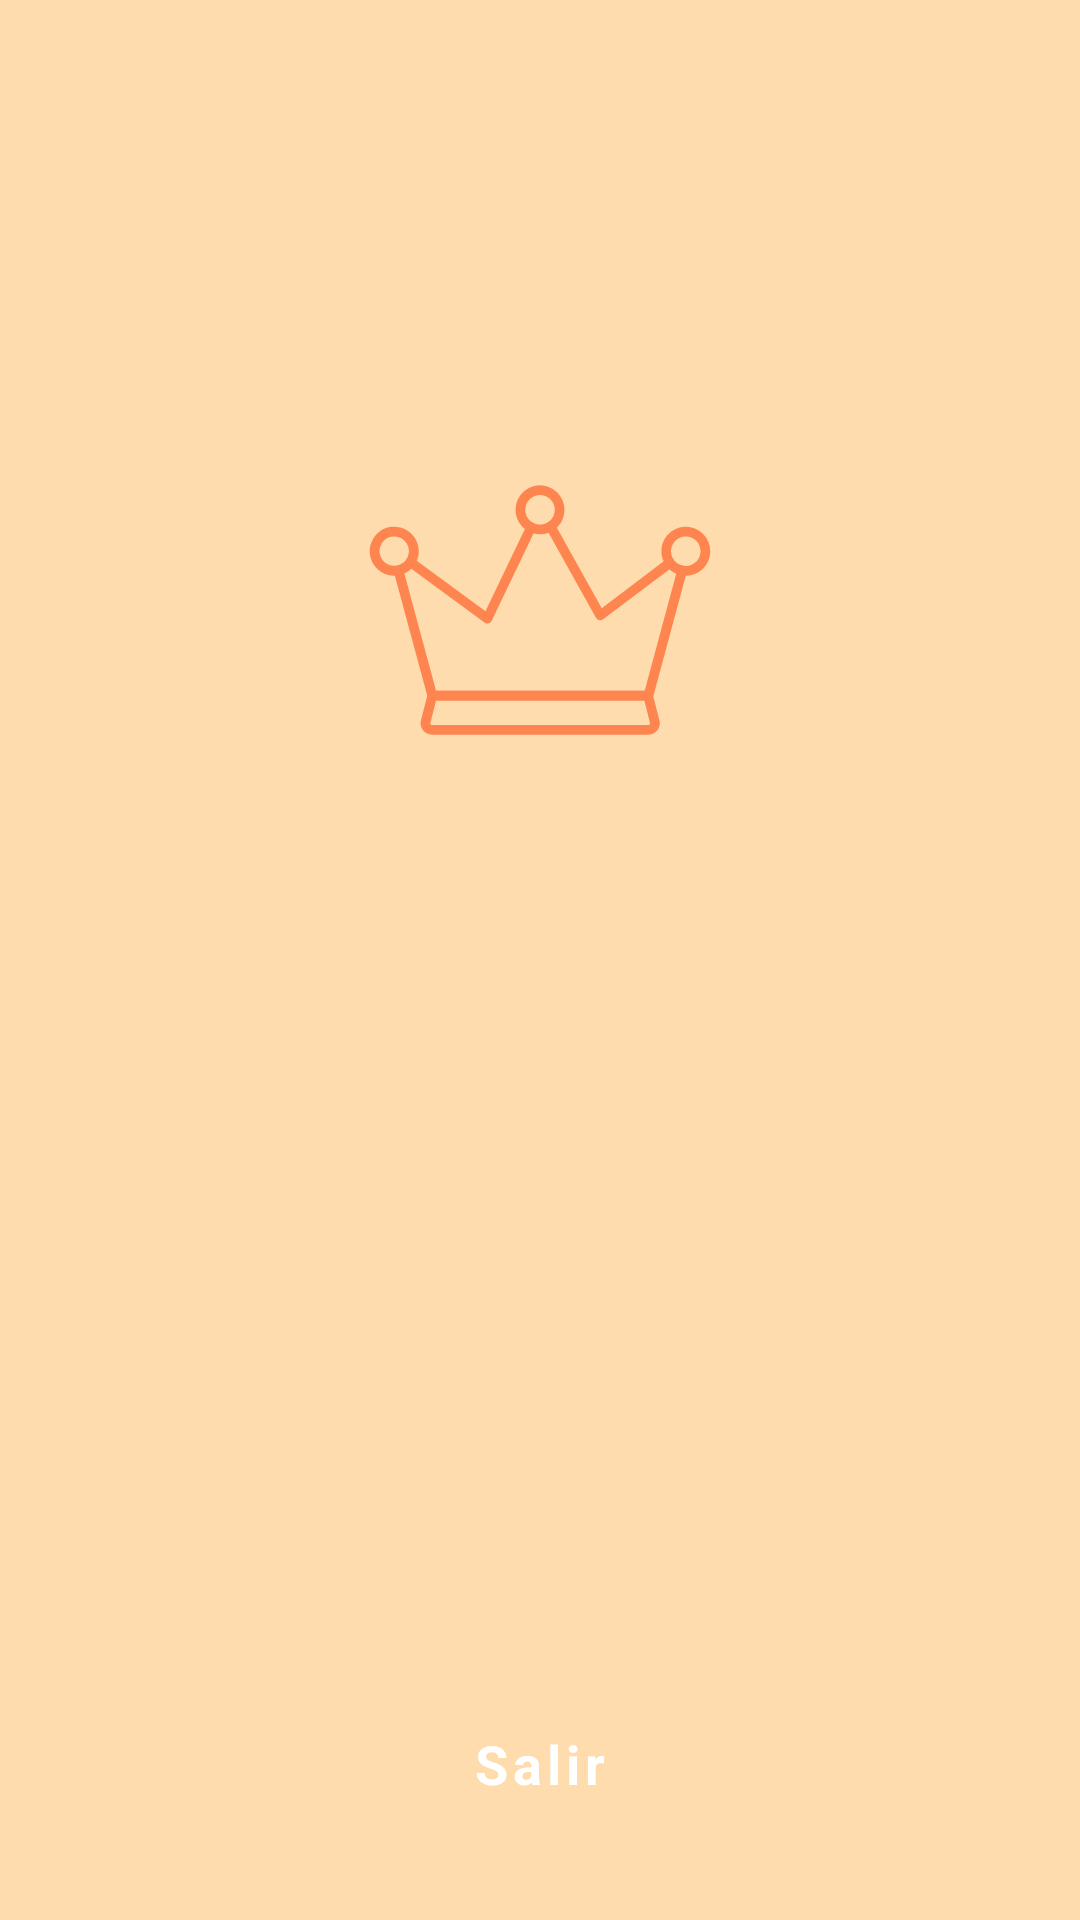

Screen size 1080px×1920px. Icon name, then its center in pixels as (x=x, y=y):
crown: (x=539, y=610)
